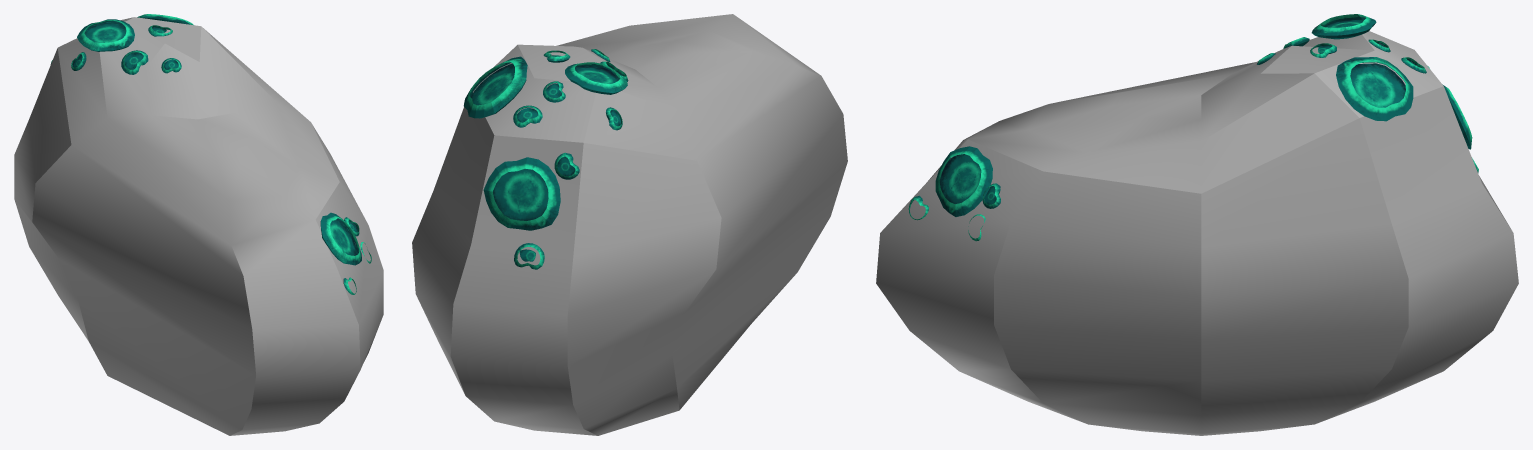
The model's file is fels1.fbx.
The picture shows the model from 3 angles, left to right: view 1: azimuth 30°, elevation 25°; view 2: azimuth 150°, elevation 25°; view 3: azimuth 270°, elevation 25°; orthographic projection. The views are drawn at different scales.
Visible parts, largest first — view 1: stein1, MASH1_ReproMesh, MASH2_ReproMesh; view 2: stein1, MASH1_ReproMesh, MASH2_ReproMesh; view 3: stein1, MASH1_ReproMesh, MASH2_ReproMesh.
Part boxes in pixels (bbox=[...]): stein1: bbox=[14, 17, 383, 435]; MASH1_ReproMesh: bbox=[77, 14, 361, 265]; MASH2_ReproMesh: bbox=[50, 25, 371, 294]; stein1: bbox=[412, 14, 847, 435]; MASH1_ReproMesh: bbox=[463, 56, 627, 230]; MASH2_ReproMesh: bbox=[513, 49, 628, 269]; stein1: bbox=[876, 31, 1518, 435]; MASH1_ReproMesh: bbox=[935, 14, 1472, 216]; MASH2_ReproMesh: bbox=[908, 37, 1478, 241].
Bounding box in the file's own units: 182 × 230 × 345.
